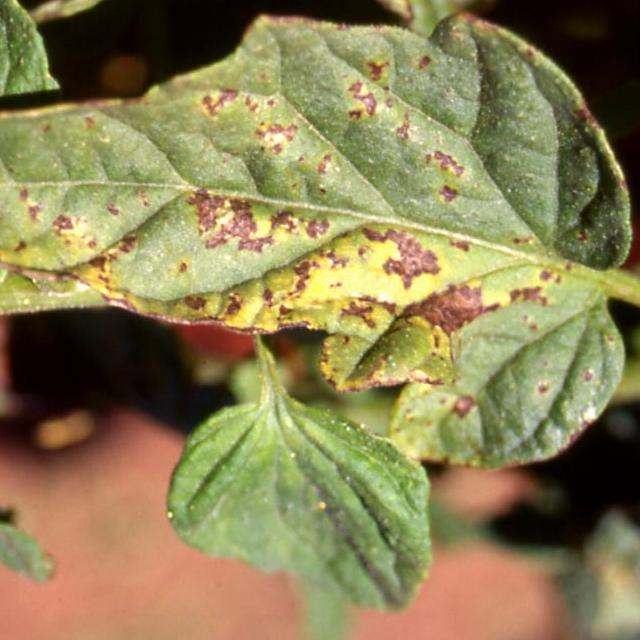Tomato leaf bacterial spot: (0, 5, 640, 465), (150, 350, 467, 640)
